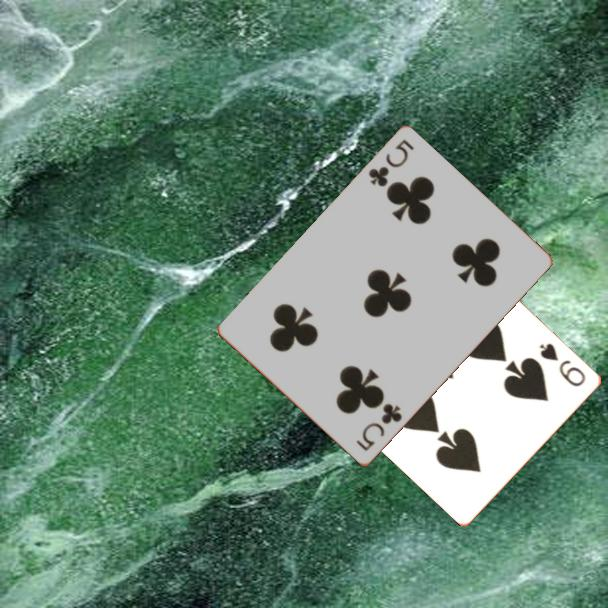c05: (353, 400, 405, 455), (365, 136, 417, 190)
s09: (536, 339, 589, 390)
